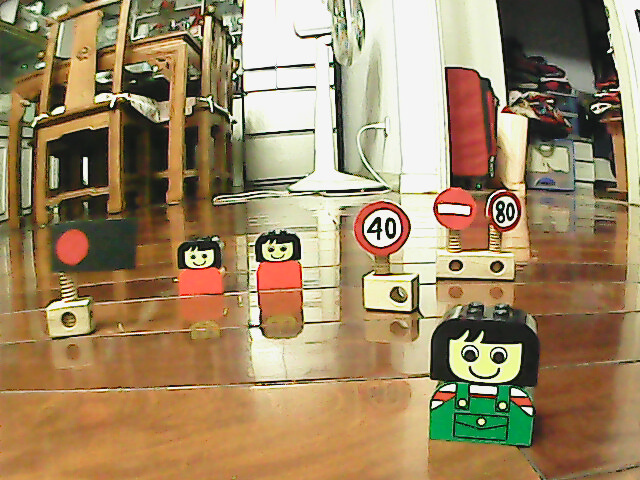Person: (252, 227, 306, 293), (174, 234, 227, 298)
Red Traffic Light: (49, 222, 97, 272)
Speed Limit 40: (352, 198, 414, 258)
Speed Limit 80: (482, 186, 526, 235)
Stop Sign: (431, 184, 478, 234)
